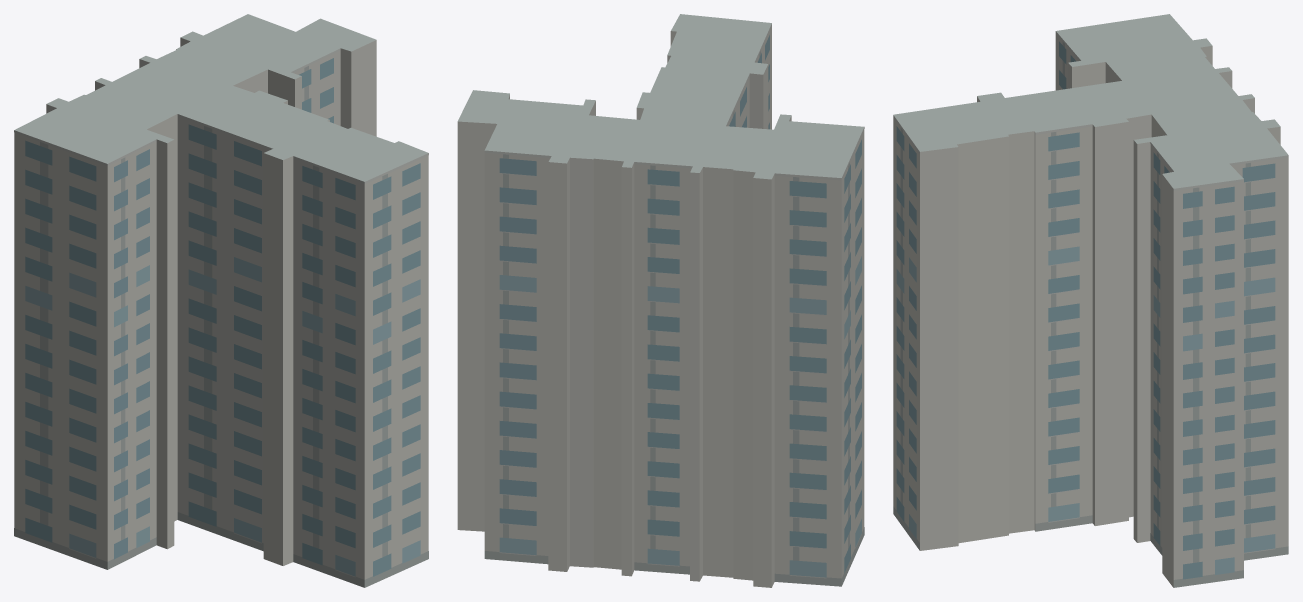
File: survey-upis-33018608.glb
3 renders of one model, left to right at view 1: azimuth 30°, elevation 25°; view 2: azimuth 150°, elevation 25°; view 3: azimuth 270°, elevation 25°, orthographic. The views are drawn at different scales.
Visible parts, largest first — view 1: survey-upis-33018608.tmp; view 2: survey-upis-33018608.tmp; view 3: survey-upis-33018608.tmp.
Boxes of the visible parts, <box> form: survey-upis-33018608.tmp: <box>14,14,428,587</box>; survey-upis-33018608.tmp: <box>457,14,864,587</box>; survey-upis-33018608.tmp: <box>893,14,1288,587</box>.
Bounding box in the file's own units: 41.44 × 44.1 × 39.62.
